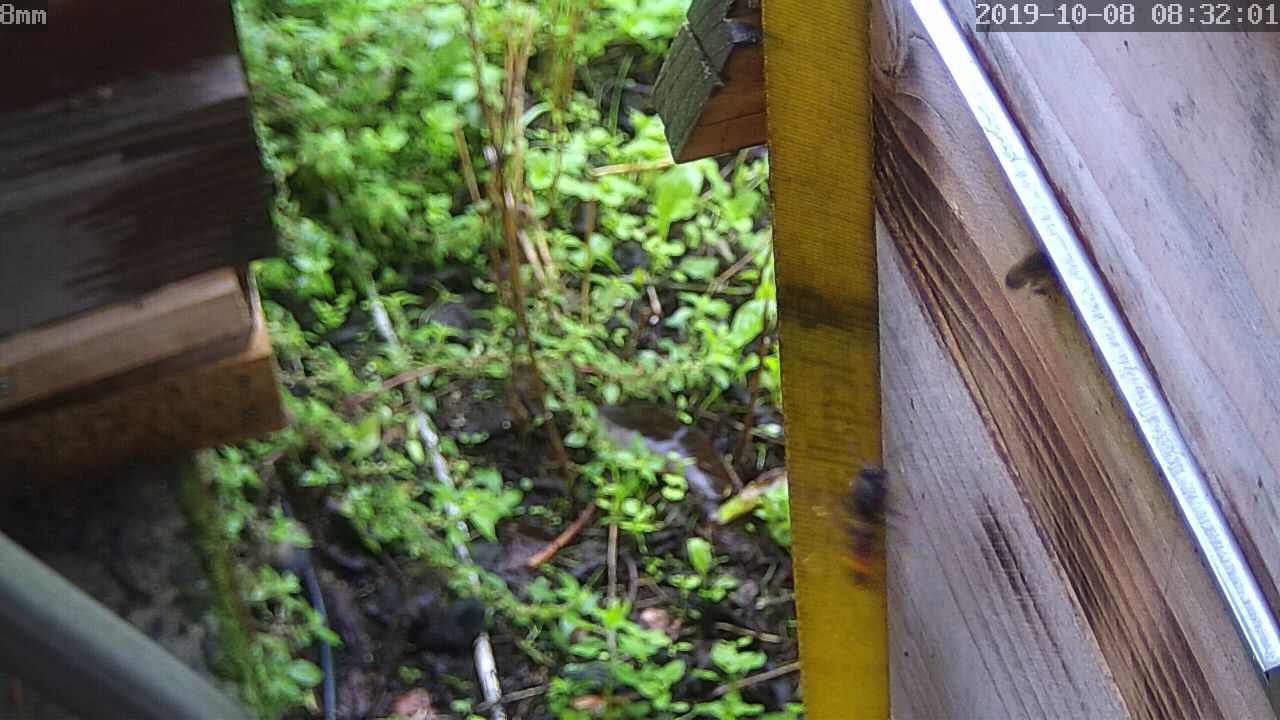hornet: (829, 454, 897, 567)
